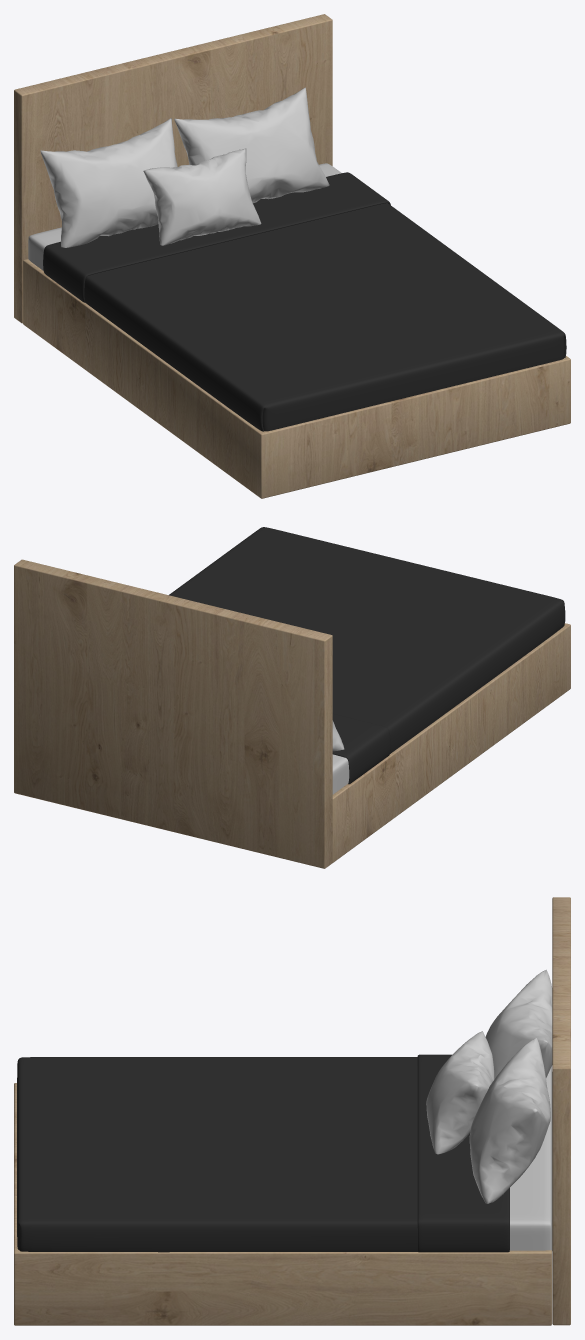
Rendered from mq_cama_15.glb.
The picture shows the model from 3 angles, top to bottom: view 1: azimuth 30°, elevation 25°; view 2: azimuth 150°, elevation 25°; view 3: azimuth 270°, elevation 25°; orthographic projection. The views are drawn at different scales.
Visible parts, largest first — view 1: Cloth, BedBase, BedPillows; view 2: BedBase, Cloth; view 3: Cloth, BedBase, BedPillows.
Boxes of the visible parts, left/top/right/bottom form: Cloth: left=28, top=163, right=566, bottom=431; BedBase: left=14, top=14, right=570, bottom=498; BedPillows: left=40, top=87, right=329, bottom=247; BedBase: left=14, top=559, right=570, bottom=868; Cloth: left=169, top=527, right=565, bottom=794; Cloth: left=17, top=1054, right=552, bottom=1252; BedBase: left=14, top=897, right=570, bottom=1325; BedPillows: left=426, top=969, right=552, bottom=1203.
Bounding box in the file's own units: 59.32 × 41.72 × 81.53.
Materials: 3 (3 with a texture image).
